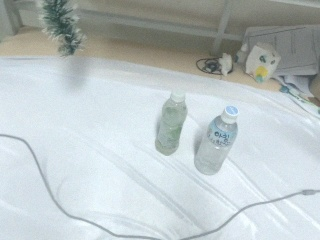bottle: (192, 104, 241, 176), (154, 87, 189, 156)
